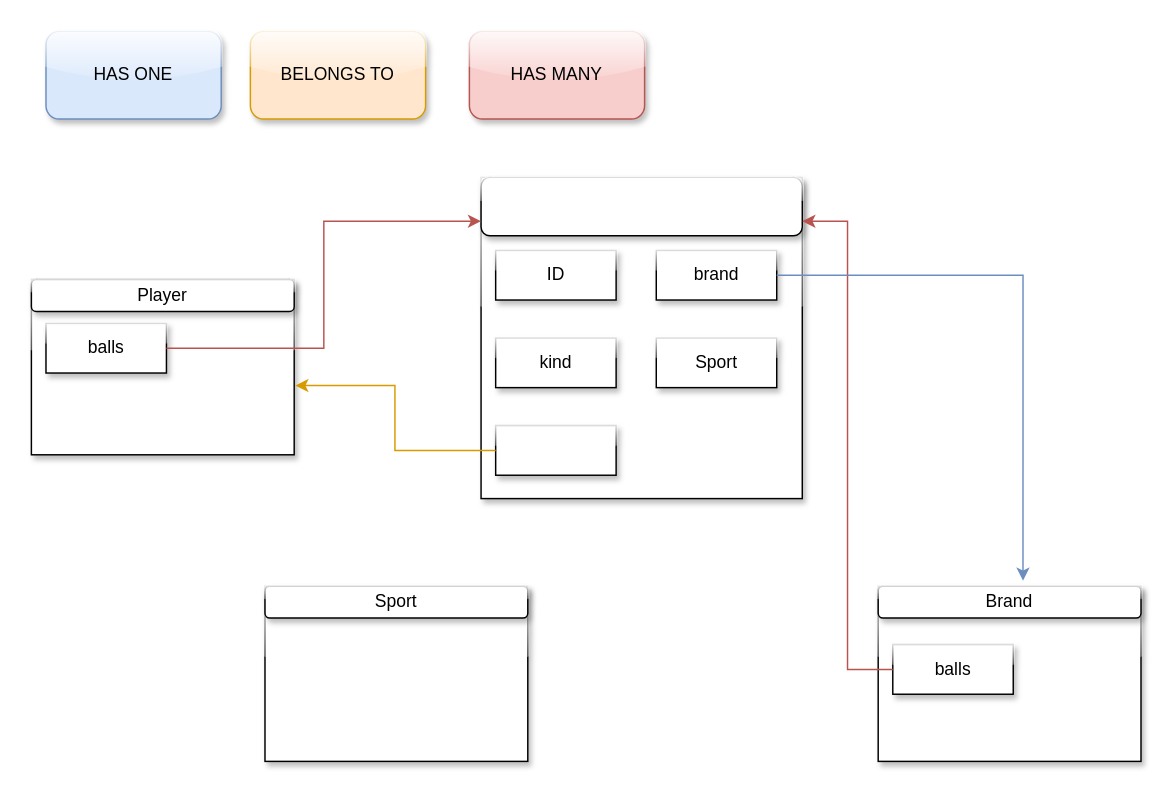
Image size: 1175x797. Some labels were removed from this diagram. The shapes that lost their labels are listed below. From the top down, each one's centre as x and y in pixels, then its label:
the point at 642,208: Ball
the point at 556,451: owner
